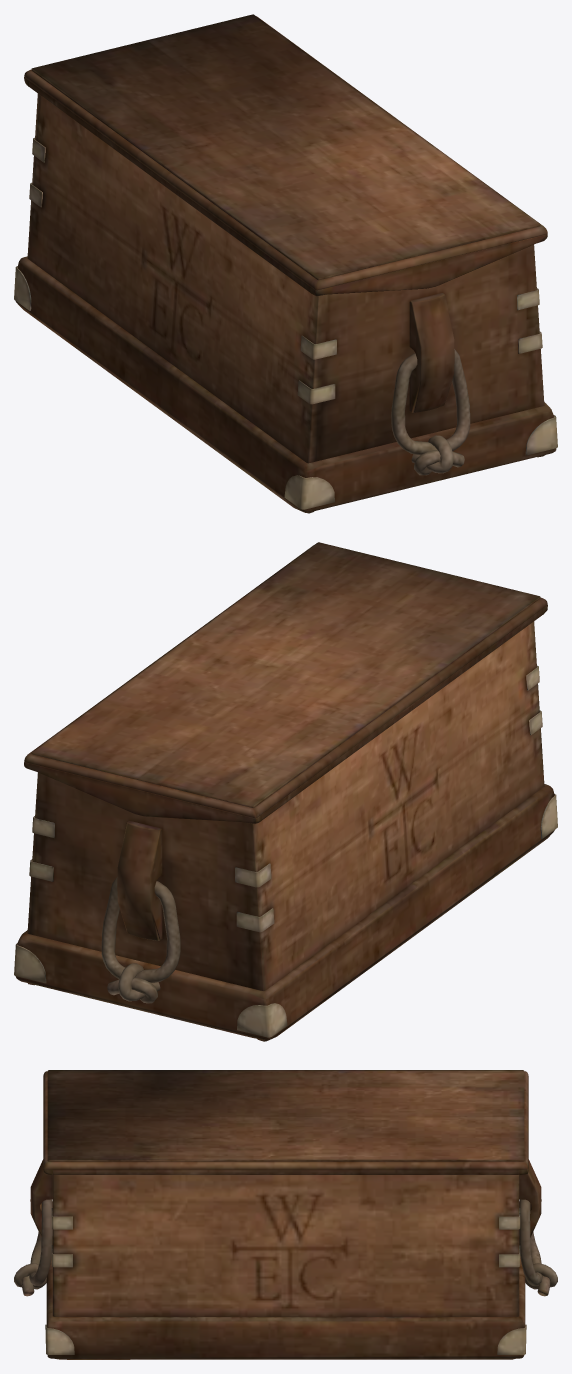
Rendered from trunk.glb.
3 views of the same model, one above another, from view 1: azimuth 30°, elevation 25°; view 2: azimuth 150°, elevation 25°; view 3: azimuth 270°, elevation 25° (orthographic). The views are drawn at different scales.
Parts seen in each view (by area): view 1: wooden_crate_02_crate; view 2: wooden_crate_02_crate; view 3: wooden_crate_02_crate.
Part boxes in pixels (x1=…): wooden_crate_02_crate: x1=14, y1=14, x2=557, y2=513; wooden_crate_02_crate: x1=14, y1=542, x2=557, y2=1041; wooden_crate_02_crate: x1=14, y1=1070, x2=557, y2=1359.
Bounding box in the file's own units: 0.5291 × 0.4639 × 1.17.
Materials: 1 (1 with a texture image).
